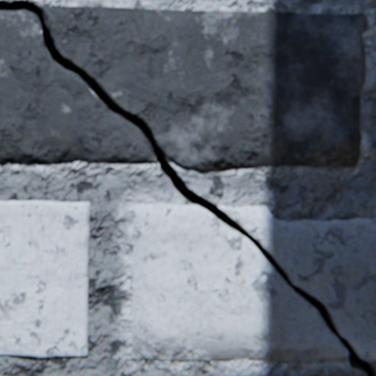brick: (0, 200, 89, 356)
broken_brick: (40, 5, 365, 167), (131, 203, 347, 359), (217, 205, 375, 360), (0, 10, 156, 162)
crack: (0, 1, 375, 375)
